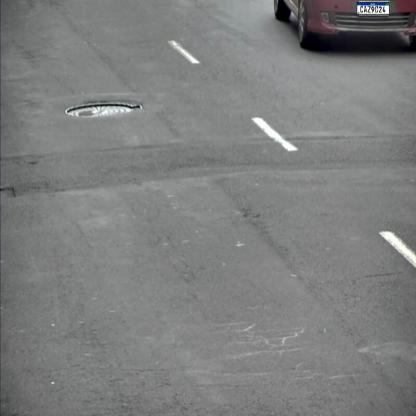PlacaM: (356, 2, 390, 15)
